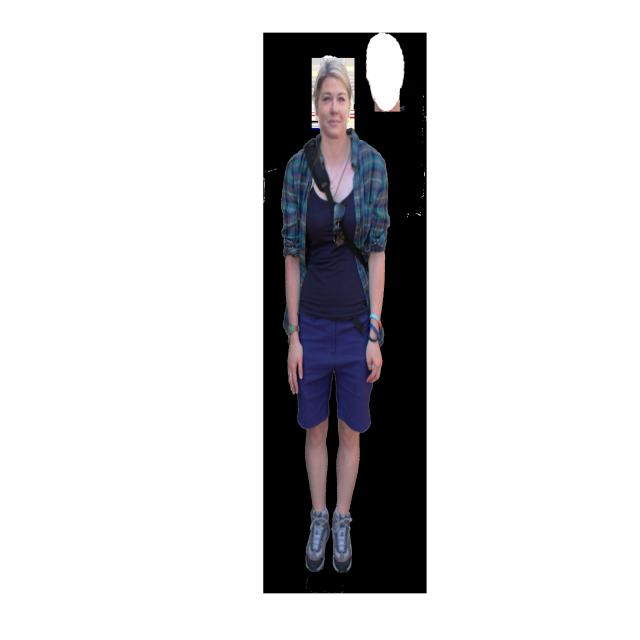jovem: (276, 69, 392, 586)
